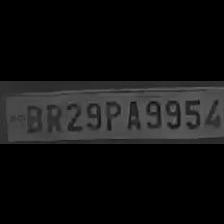2: (62, 98, 82, 132)
4: (202, 94, 222, 128)
5: (182, 95, 200, 129)
9: (82, 96, 102, 130), (142, 95, 162, 129), (163, 95, 181, 129)
A: (122, 95, 142, 131)
B: (21, 101, 43, 133)
P: (101, 96, 121, 130)
R: (43, 99, 62, 133)
